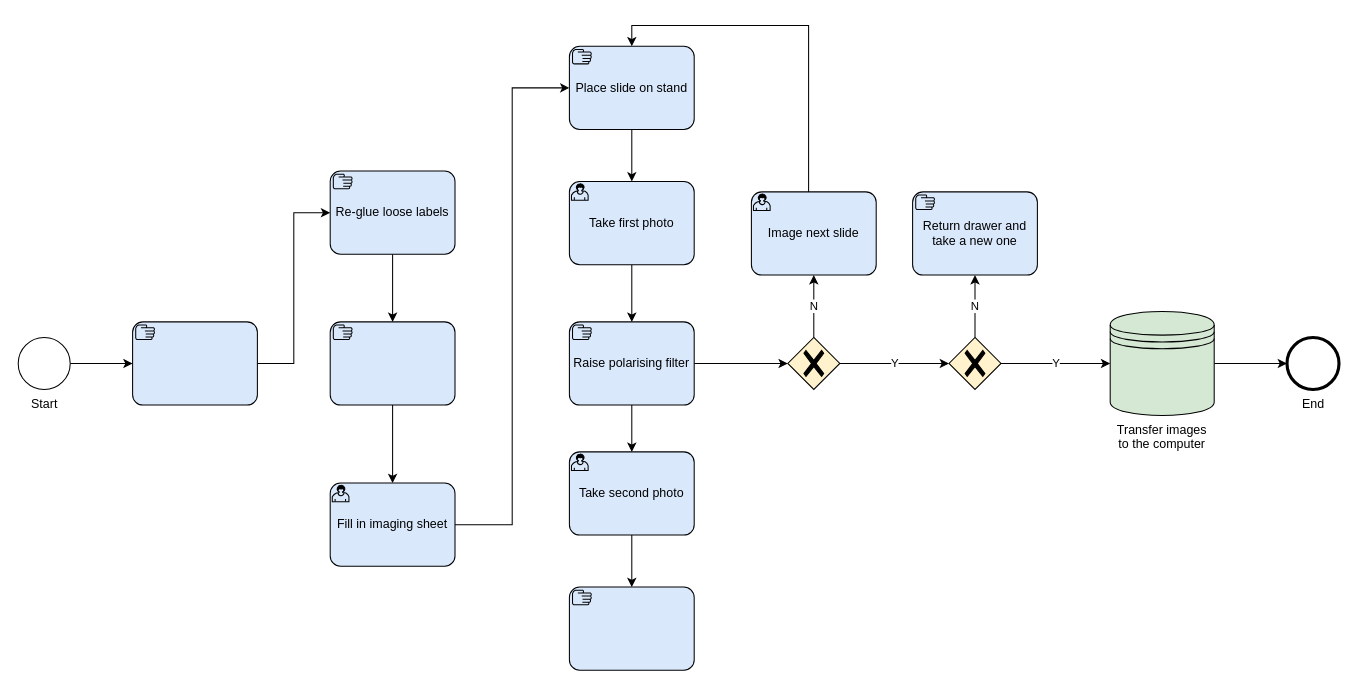
This 1357x688 diagram has some shape labels left out. The centre of each missing label's shape, as x and y in pixels:
"Clean slides" belongs at [392,363].
"Last photo of the day?" belongs at [974,362].
"Last slide in tray?" belongs at [813,362].
"Remove slide" belongs at [631,628].
"Retrieve slide drawer from storage" belongs at [194,363].
